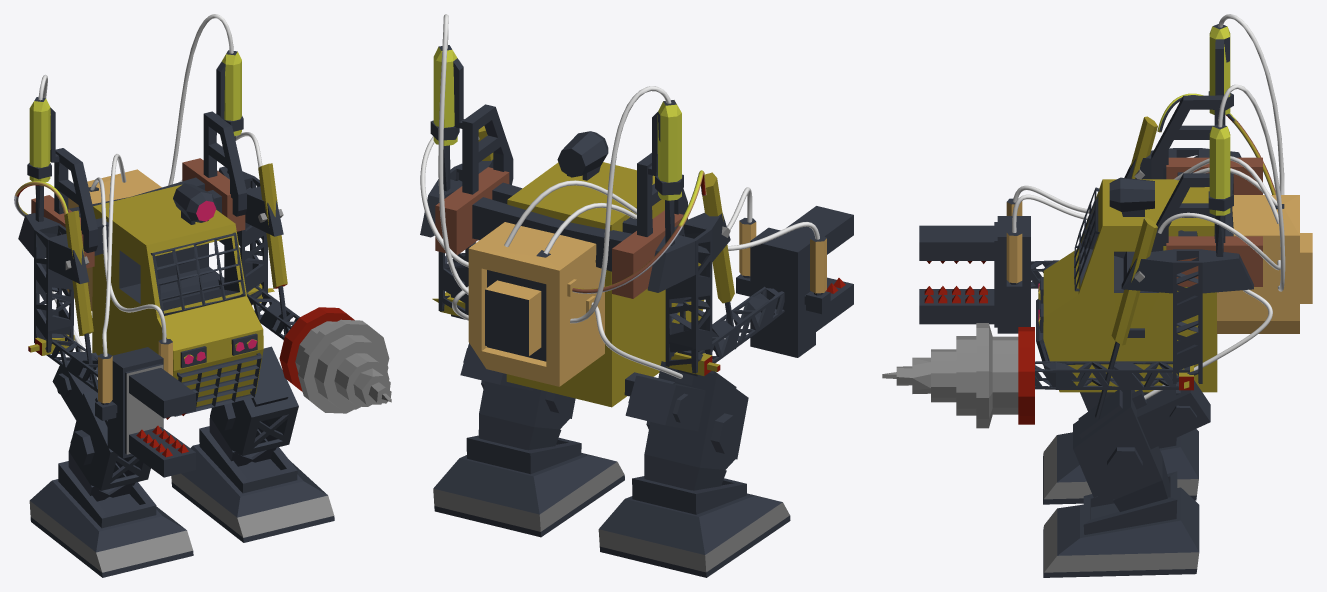
File: Krot2.fbx
The picture shows the model from 3 angles, left to right: view 1: azimuth 30°, elevation 25°; view 2: azimuth 150°, elevation 25°; view 3: azimuth 270°, elevation 25°; orthographic projection. The views are drawn at different scales.
Visible parts, largest first — view 1: Cube, Cube.003, Cube.012, Cylinder.003, Cube.011, Plane.008, Cube.002, Cube.006, Plane.004, Cube.007, Cube.008, Plane.015 (+8 smaller); view 2: Cube, Cube.003, Cube.012, Cube.002, Plane.008, Cube.006, Cube.011, Cube.001, Plane.015, Cube.009, Plane.004, Cylinder.001 (+10 smaller); view 3: Cube, Cube.012, Cylinder.003, Cube.011, Plane.004, Cube.003, Plane.014, Cube.006, Cube.010, Cube.008, Cube.007, Cylinder (+10 smaller).
Boxes of the visible parts, x1=… form: Cube: x1=27, y1=50, x2=263, y2=416; Cube.003: x1=29, y1=461, x2=193, y2=577; Cube.012: x1=171, y1=426, x2=334, y2=542; Cylinder.003: x1=279, y1=307, x2=391, y2=413; Cube.011: x1=209, y1=346, x2=298, y2=466; Plane.008: x1=18, y1=213, x2=89, y2=352; Cube.002: x1=68, y1=390, x2=150, y2=501; Cube.006: x1=107, y1=347, x2=163, y2=458; Plane.004: x1=218, y1=166, x2=283, y2=299; Cube.007: x1=129, y1=425, x2=195, y2=477; Cube.008: x1=129, y1=368, x2=195, y2=419; Plane.015: x1=28, y1=333, x2=97, y2=392; Cube: x1=430, y1=45, x2=704, y2=407; Cube.003: x1=598, y1=476, x2=790, y2=577; Cube.012: x1=433, y1=435, x2=624, y2=537; Cube.002: x1=644, y1=361, x2=748, y2=490; Plane.008: x1=647, y1=212, x2=730, y2=373; Cube.006: x1=750, y1=227, x2=815, y2=357; Cube.011: x1=478, y1=380, x2=575, y2=450; Cube.001: x1=624, y1=372, x2=705, y2=431; Plane.015: x1=666, y1=286, x2=784, y2=376; Cube.009: x1=736, y1=218, x2=830, y2=314; Plane.004: x1=420, y1=159, x2=493, y2=315; Cylinder.001: x1=702, y1=172, x2=735, y2=349; Cube: x1=1036, y1=24, x2=1312, y2=392; Cube.012: x1=1043, y1=471, x2=1199, y2=577; Cylinder.003: x1=882, y1=323, x2=1034, y2=428; Cube.011: x1=1073, y1=390, x2=1169, y2=511; Plane.004: x1=1121, y1=249, x2=1253, y2=383; Cube.003: x1=1043, y1=429, x2=1198, y2=504; Plane.014: x1=1035, y1=361, x2=1193, y2=390; Cube.006: x1=994, y1=216, x2=1030, y2=333; Cube.010: x1=1137, y1=375, x2=1210, y2=449; Cube.008: x1=919, y1=225, x2=994, y2=263; Cube.007: x1=919, y1=286, x2=994, y2=324; Cylinder: x1=1095, y1=217, x2=1157, y2=419.
Bounding box in the file's own units: 1479 × 2321 × 1892.
